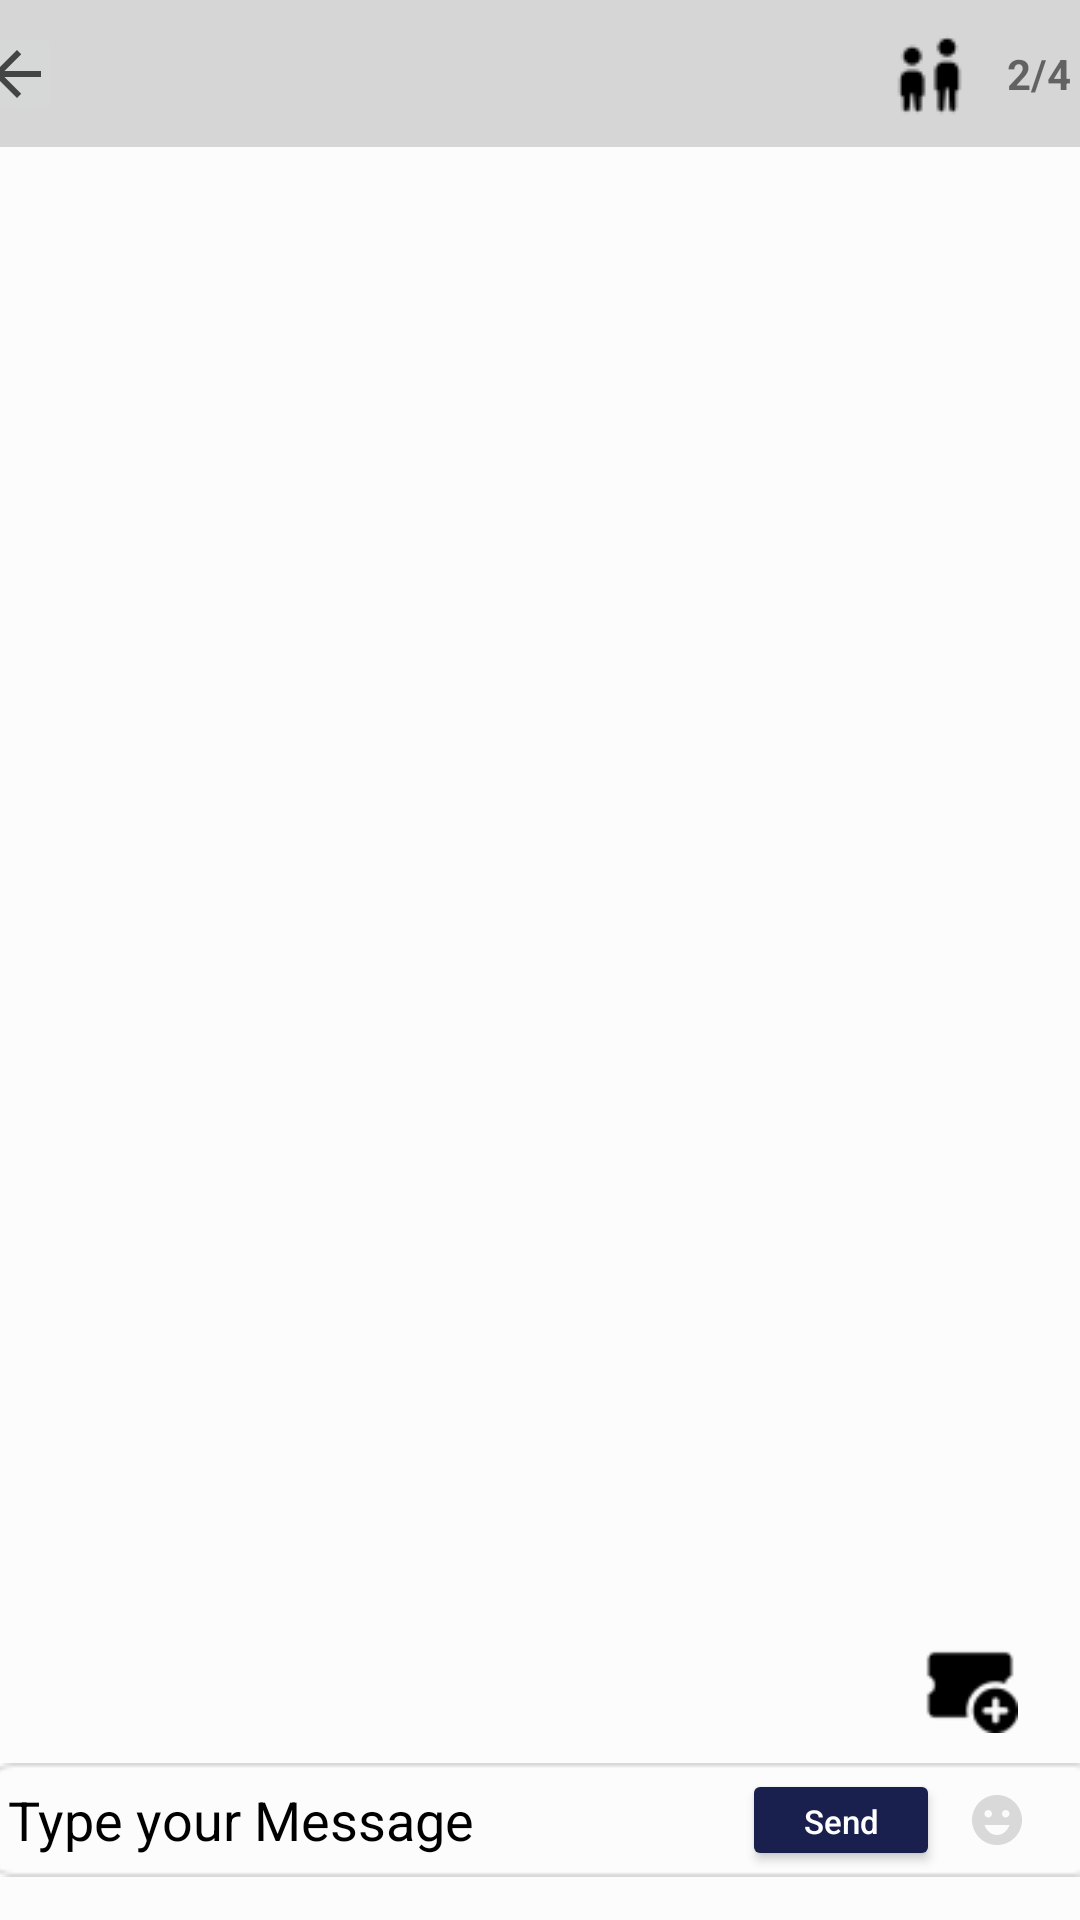

Where icons sit on this 1080x1920 app screen, as (x1, y1, x2, y2):
emoji emotions: (972, 1795, 1022, 1845)
people: (899, 38, 961, 112)
ticket: (926, 1651, 1018, 1733)
